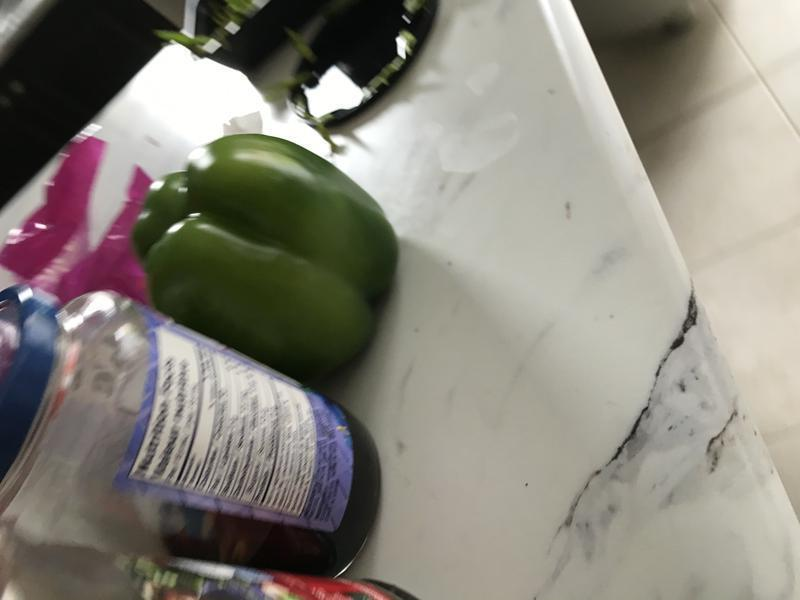green_pepper: (104, 127, 423, 394)
